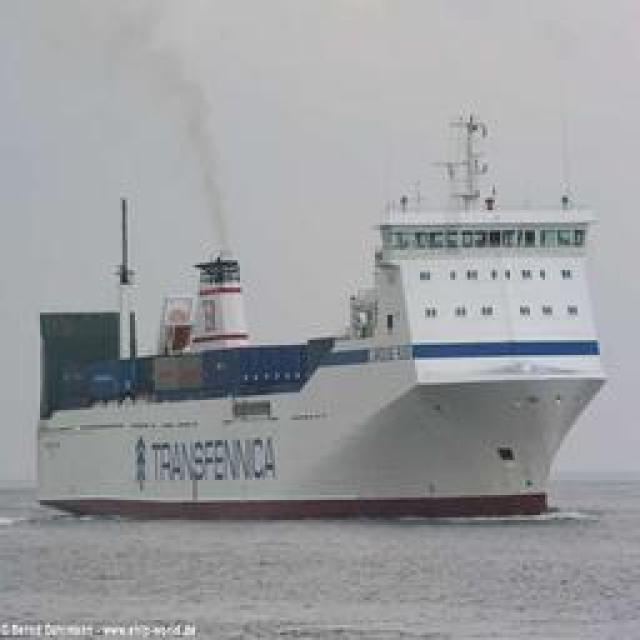CIV_Ship: (44, 132, 626, 532)
